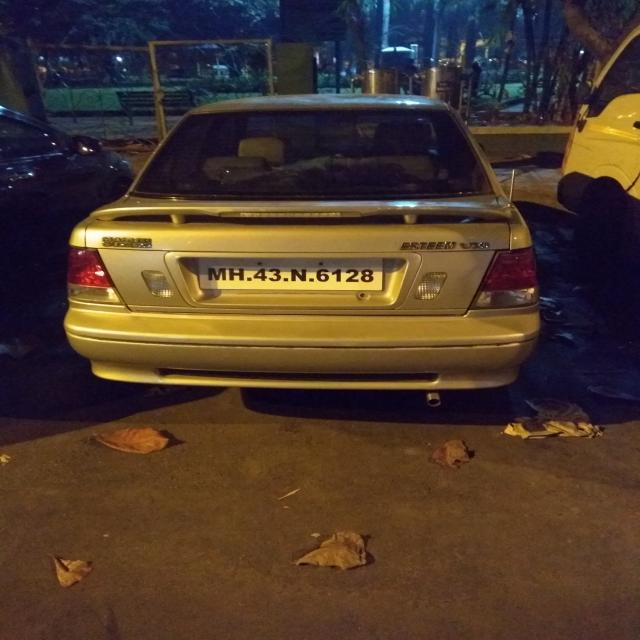Number-Plate: (205, 255, 385, 292)
